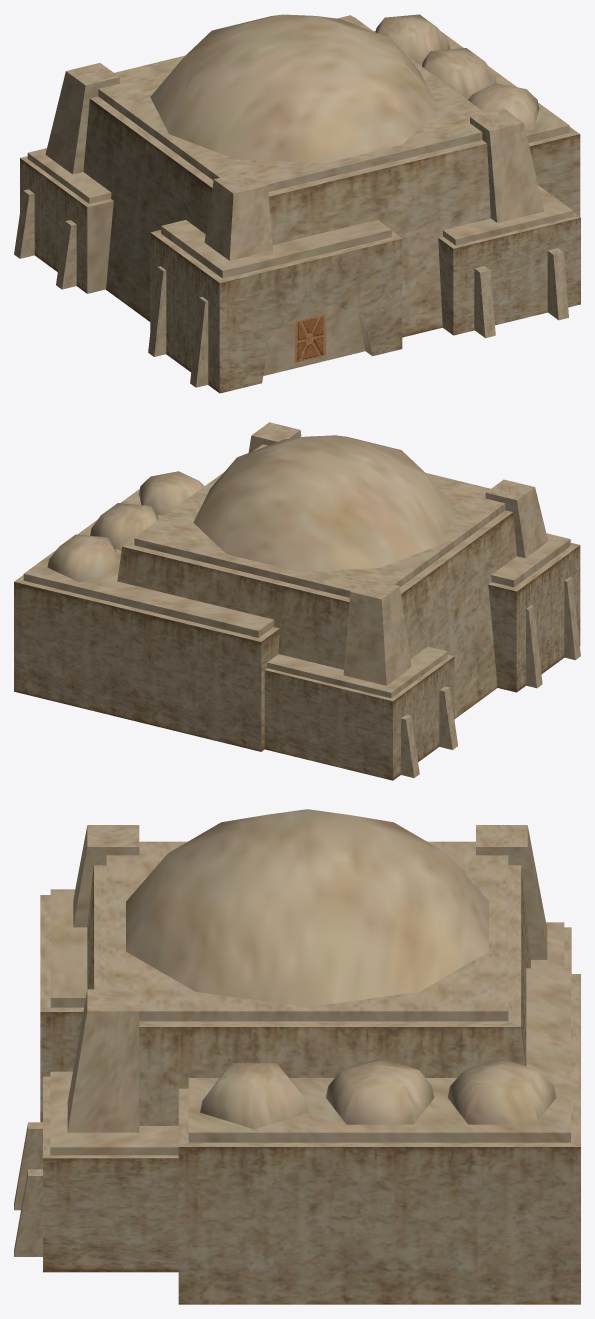
The model's file is thm_tato_imprv_building_s05_l2.fbx.
The picture shows the model from 3 angles, top to bottom: view 1: azimuth 30°, elevation 25°; view 2: azimuth 150°, elevation 25°; view 3: azimuth 270°, elevation 25°; orthographic projection. The views are drawn at different scales.
Parts seen in each view (by area): view 1: mesh_node; view 2: mesh_node; view 3: mesh_node.
Part boxes in pixels (left/top/right/bottom): mesh_node: left=14, top=14, right=580, bottom=393; mesh_node: left=14, top=422, right=580, bottom=780; mesh_node: left=14, top=809, right=580, bottom=1304.
Size of the model in its own units: 29.01 by 16.02 by 25.5.
